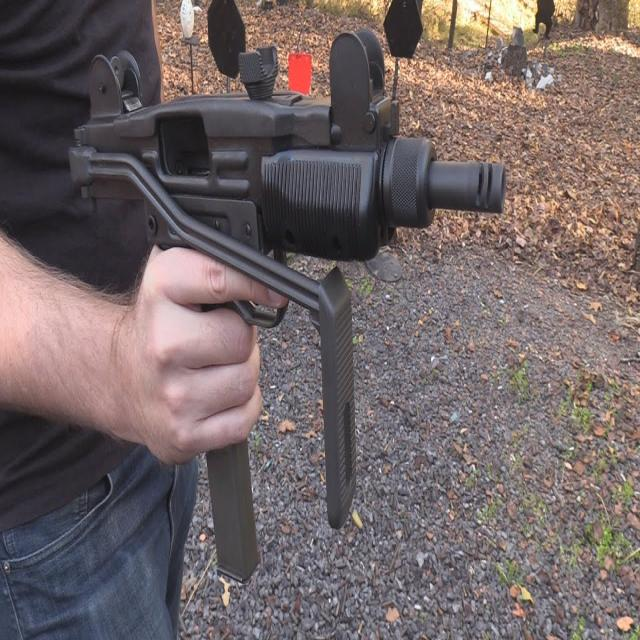SMG: (70, 32, 506, 580)
